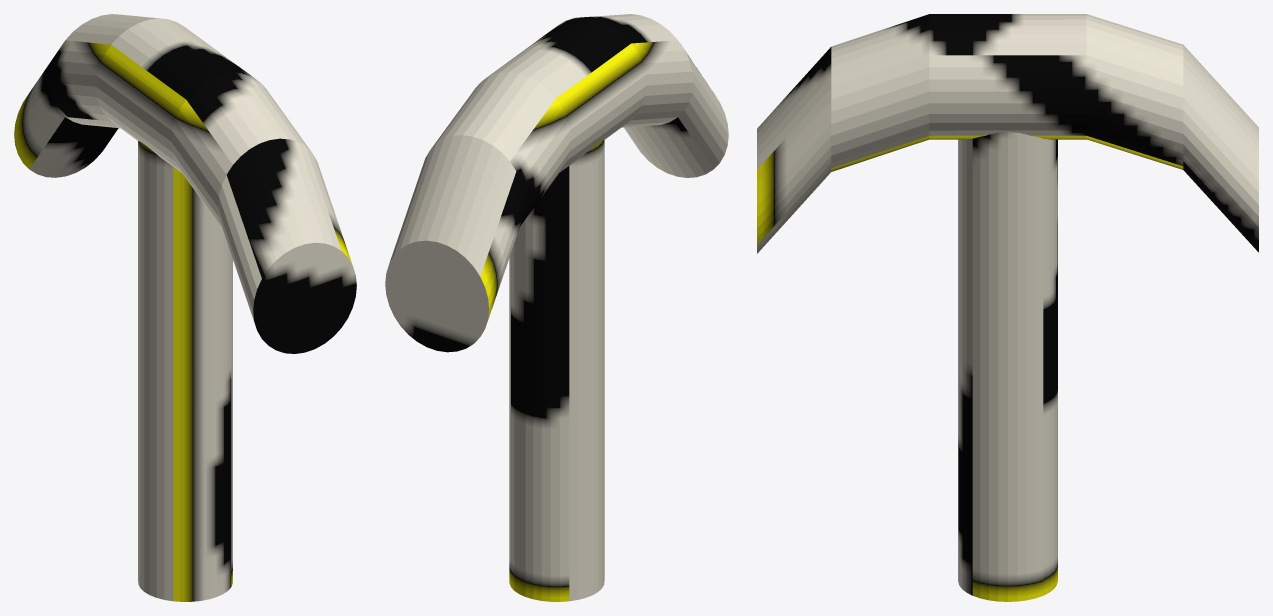
File: pickaxe.fbx
The picture shows the model from 3 angles, left to right: view 1: azimuth 30°, elevation 25°; view 2: azimuth 150°, elevation 25°; view 3: azimuth 270°, elevation 25°; orthographic projection. The views are drawn at different scales.
Visible parts, largest first — view 1: Cylinder; view 2: Cylinder; view 3: Cylinder.
Part boxes in pixels (left/top/right/bottom): Cylinder: left=14, top=14, right=356, bottom=601; Cylinder: left=385, top=14, right=728, bottom=601; Cylinder: left=757, top=14, right=1258, bottom=601.
Bounding box in the file's own units: 200 × 986 × 799.
